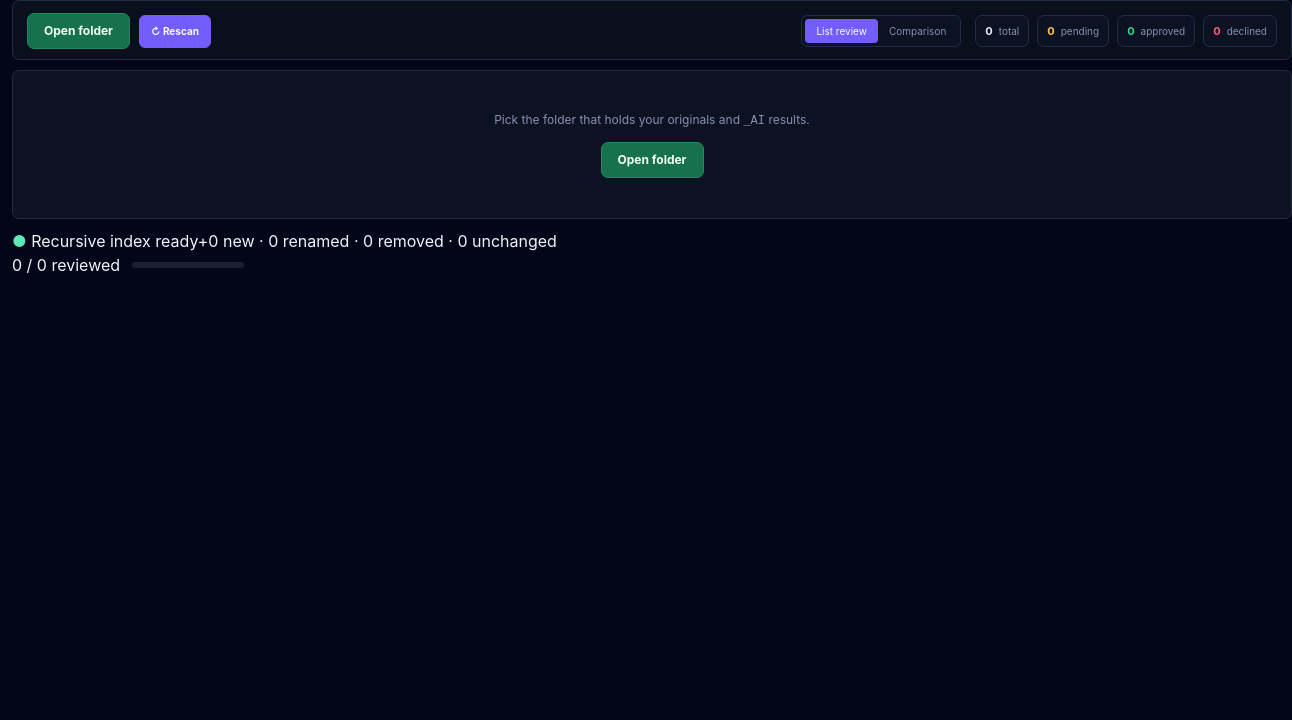
Test: Selection V2 panel › lists only the batch's split output, and says why the list is short
Click the button with test id "v2-open-folder" at [78, 31], box [27, 13, 130, 49]
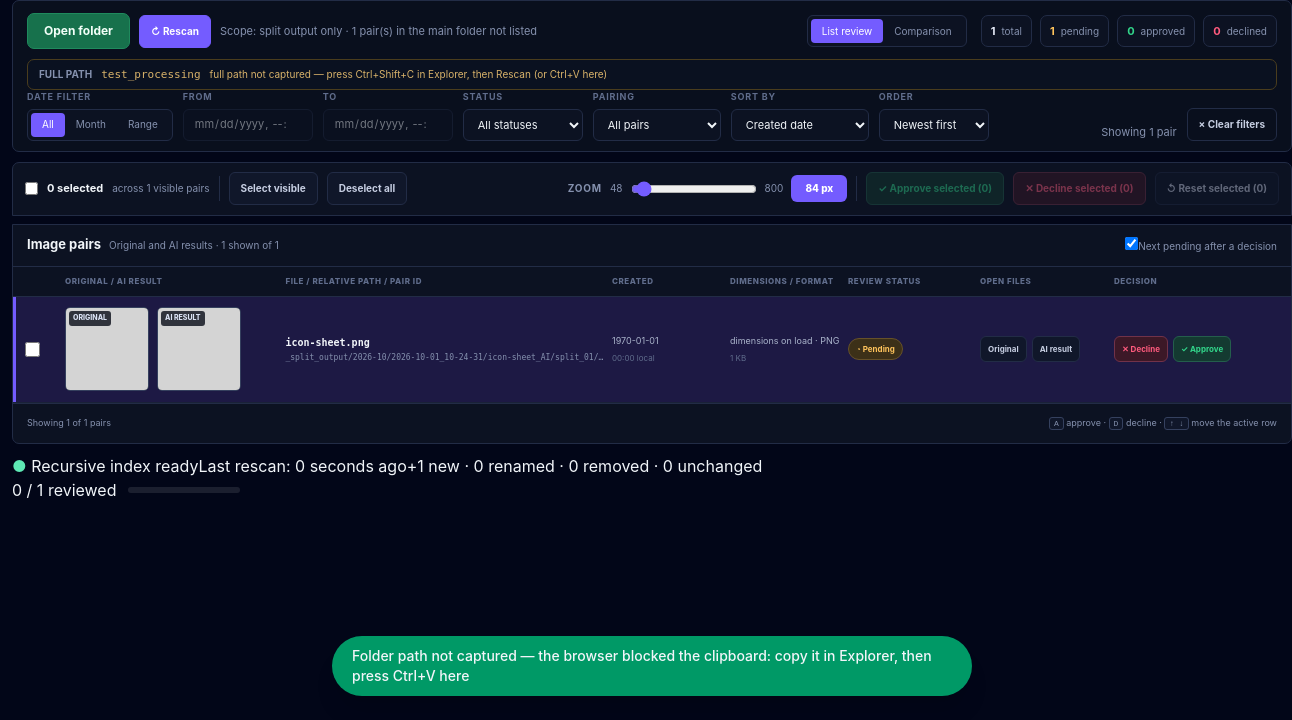
Result: the text with test id "v2-scan-scope" shows "Scope: split output only" at [220, 24, 537, 38]
Result: the text with test id "v2-scan-scope" shows "not listed" at [220, 24, 537, 38]
